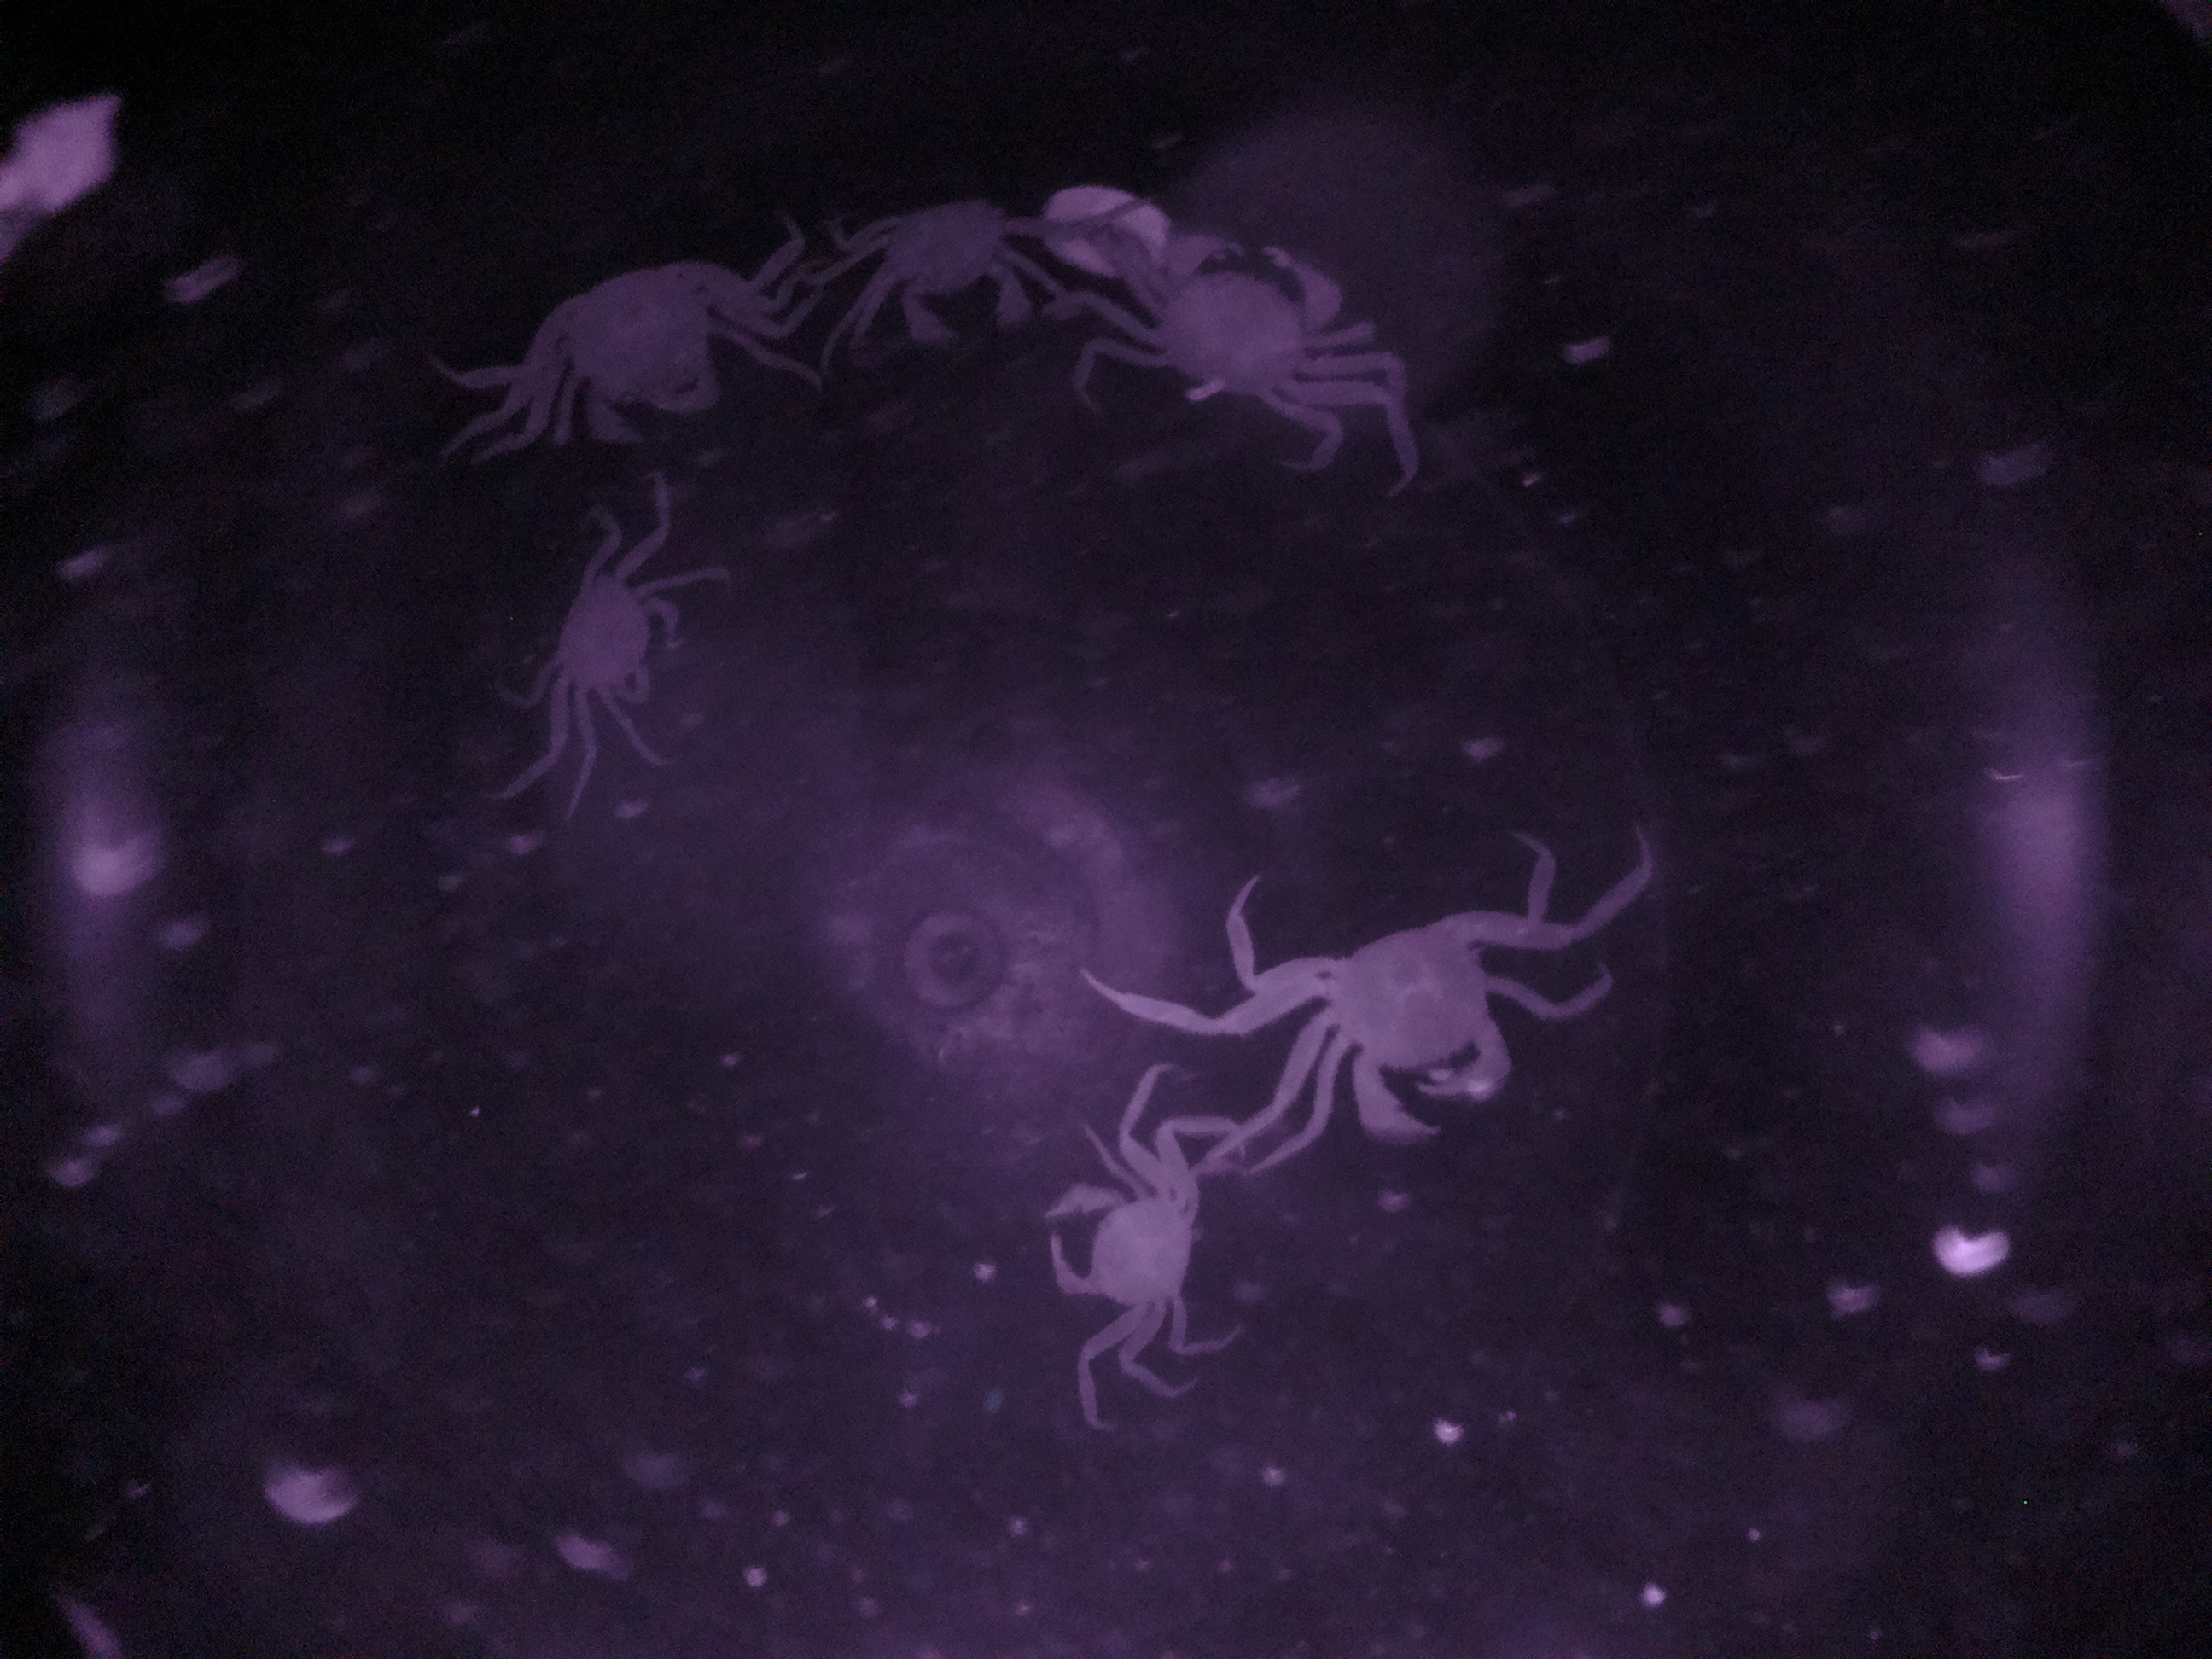Crab: (1275, 882, 1531, 1155), (510, 225, 768, 457), (1094, 218, 1367, 406), (996, 1131, 1224, 1337), (848, 188, 1062, 366), (542, 538, 697, 755)
